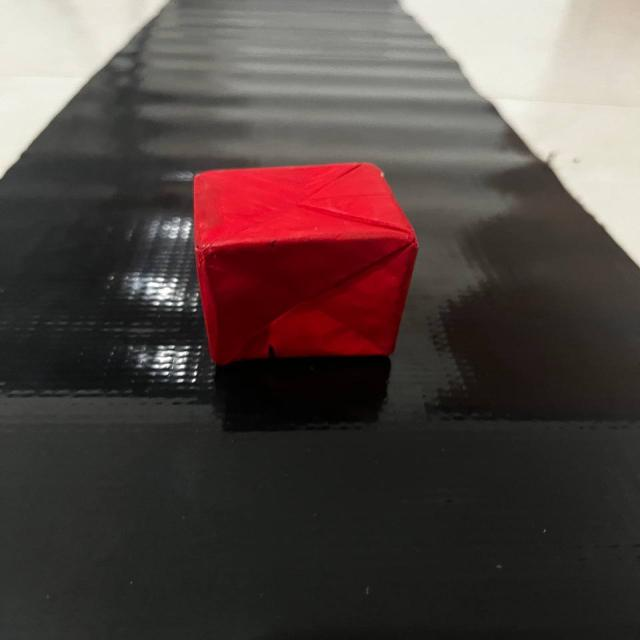Rojo: (174, 154, 438, 382)
